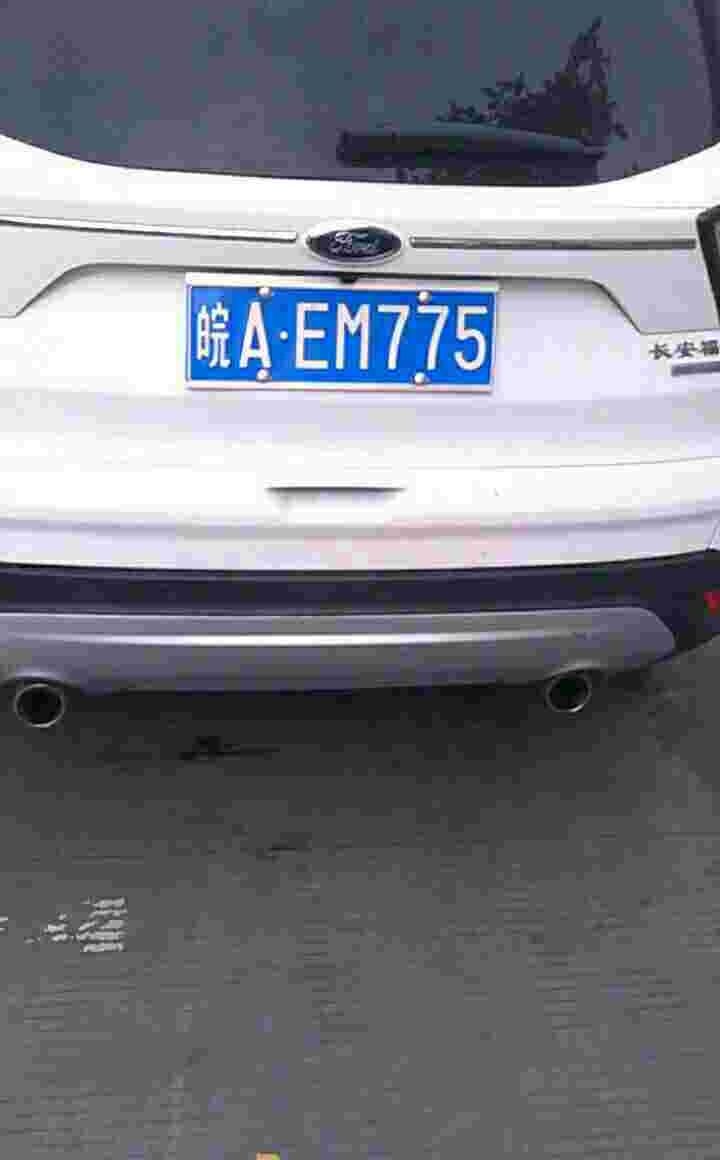license_plate: (184, 282, 511, 389)
